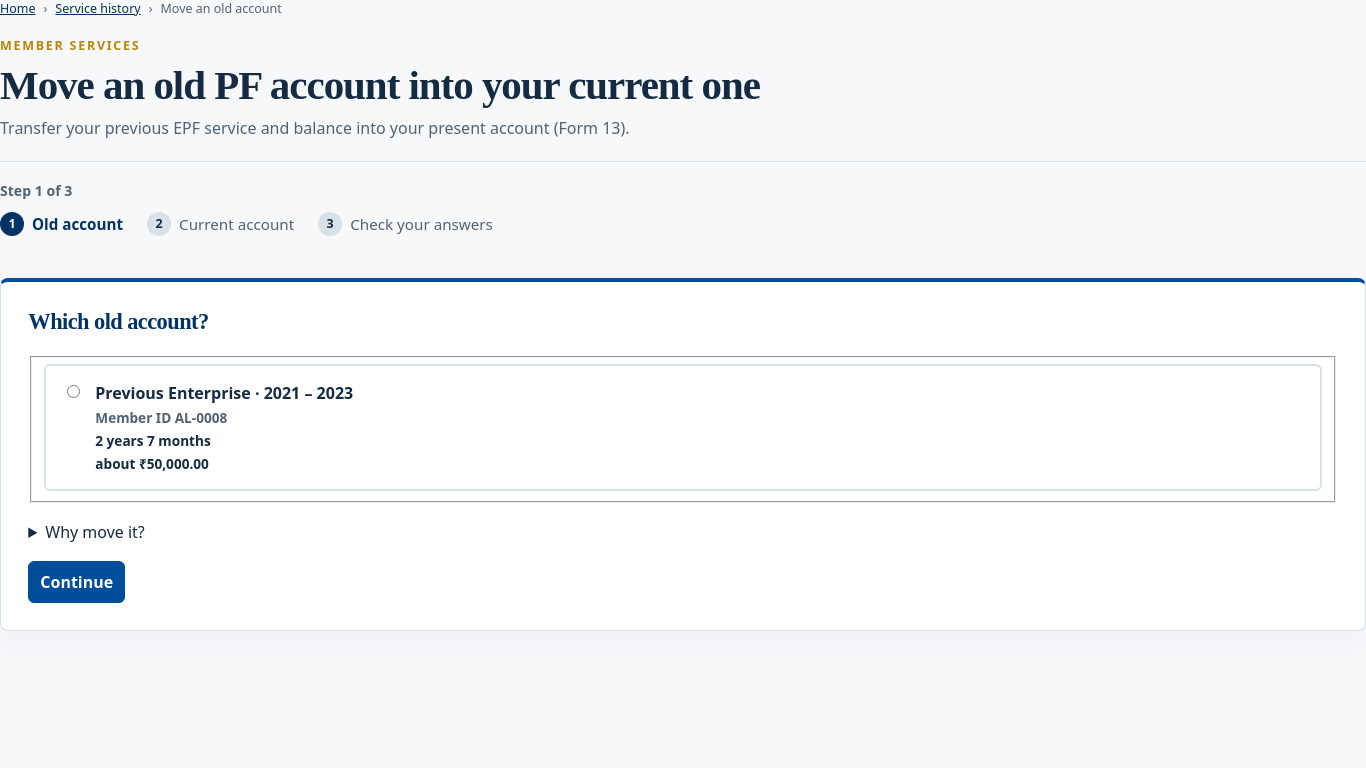
Test: P2.28c TransferJourneyPage › submits transfer, steps up with challenge, and displays ConfirmationPanel with case reference and three steps
Click the radio button labelled "Previous Enterprise" at (74, 392), box [67, 385, 80, 398]
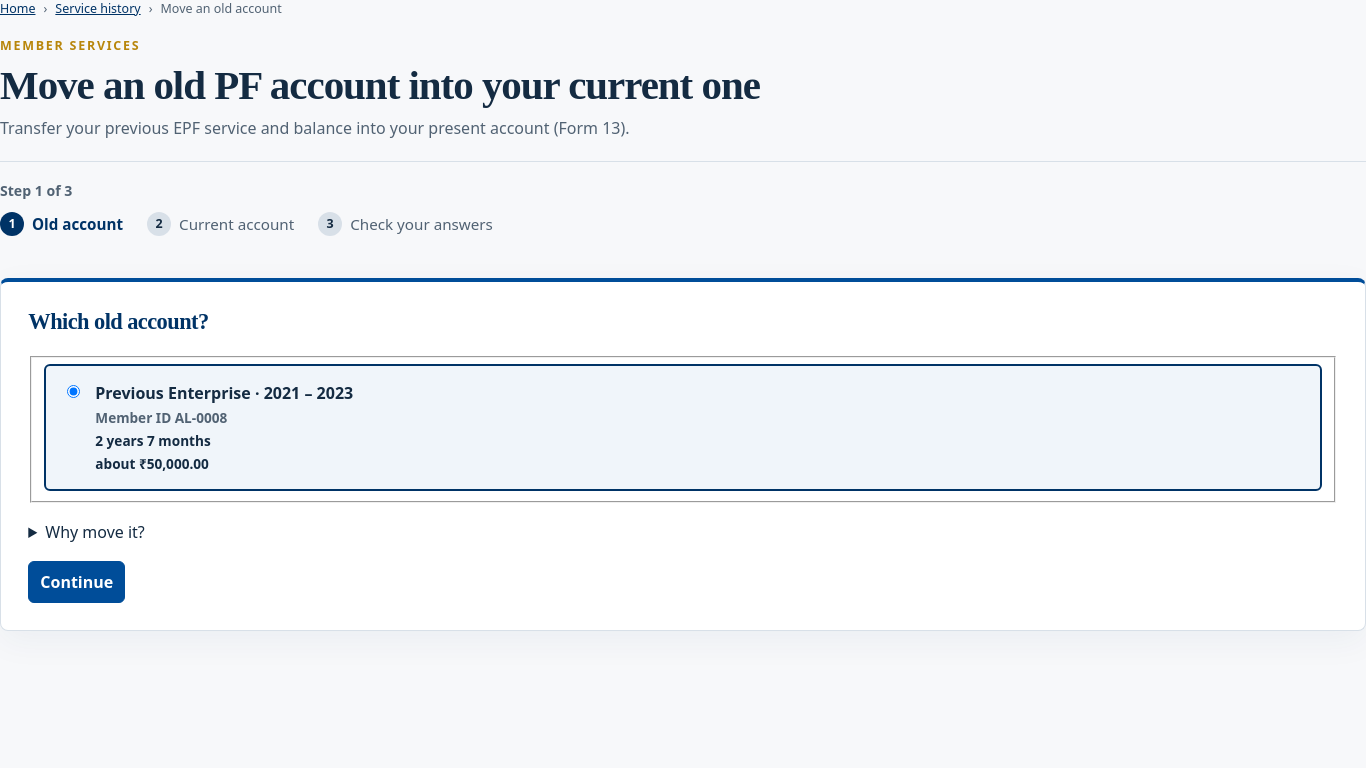
Click the button "Continue" at (77, 582), box [28, 561, 125, 603]
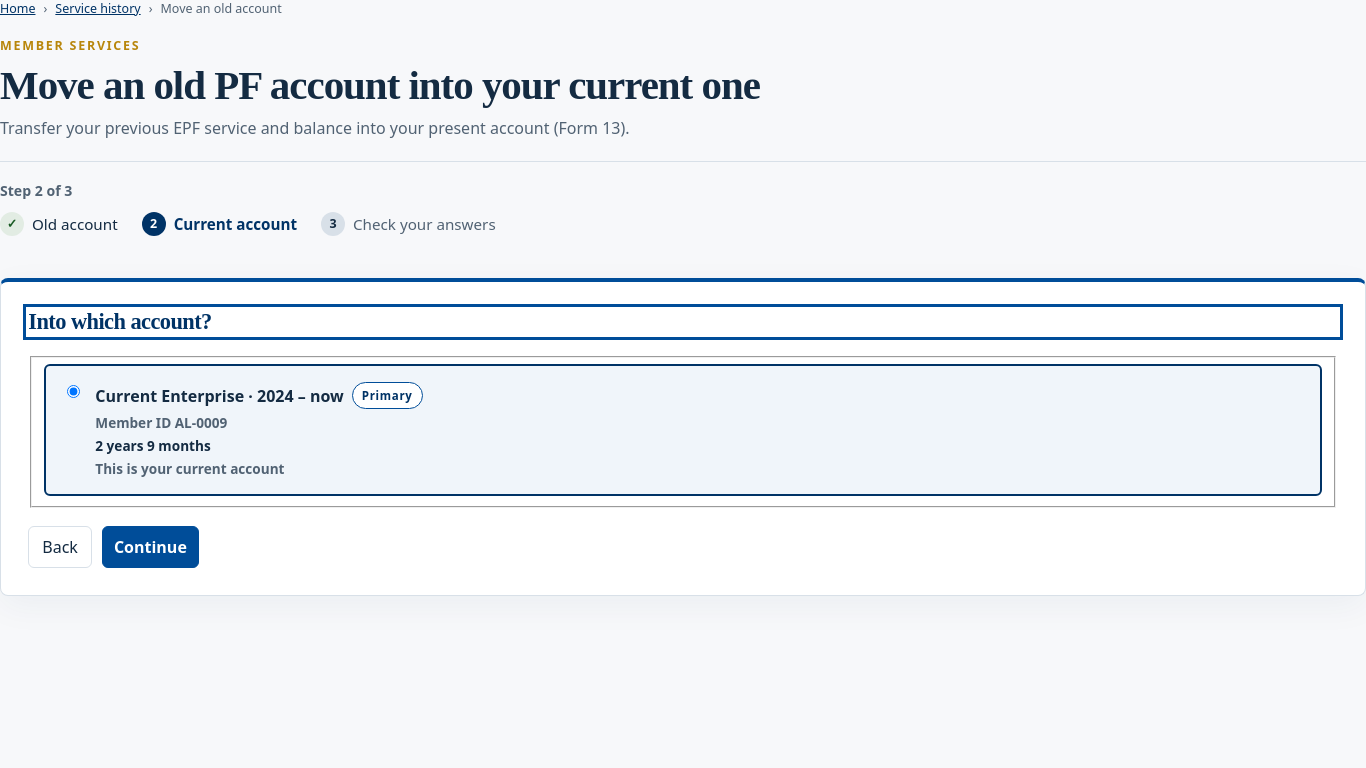
Click the button "Continue" at (150, 547), box [102, 526, 199, 568]
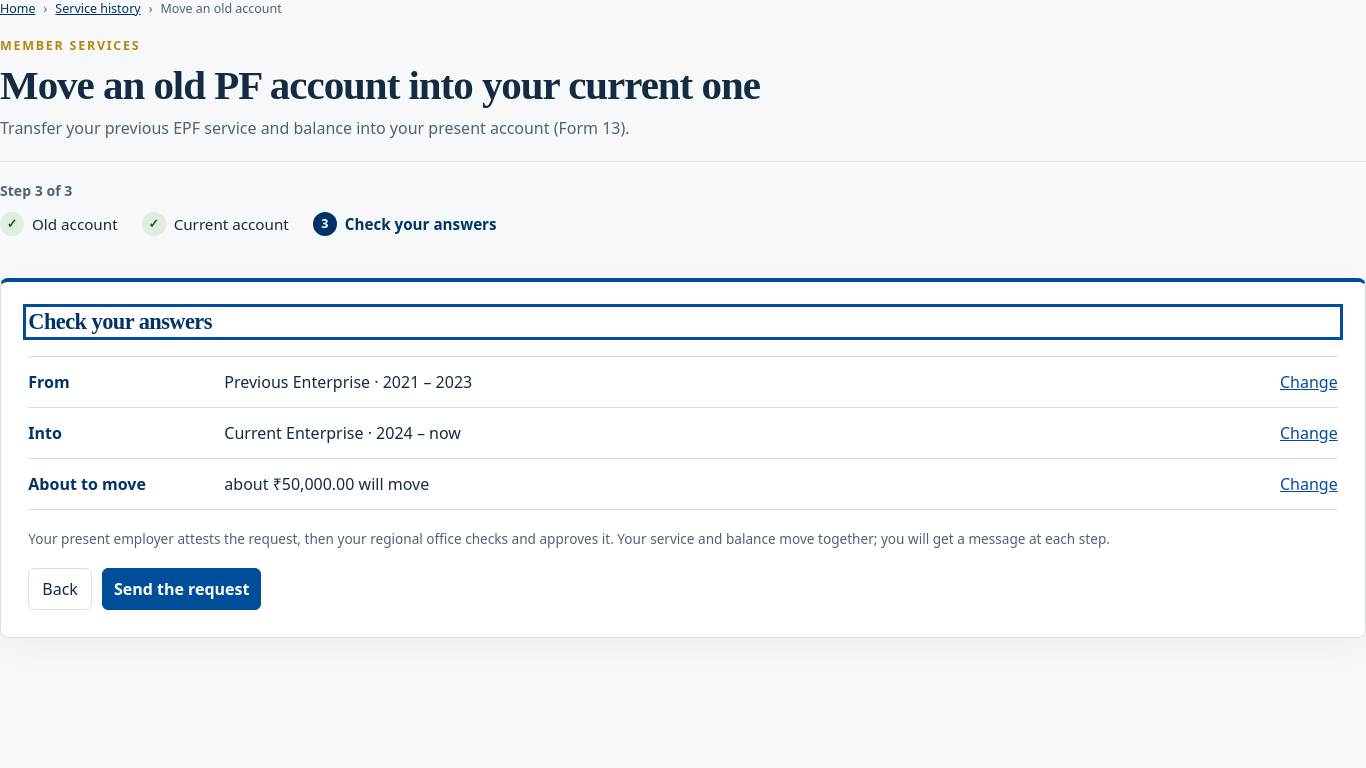
Expected: the heading "Check your answers" is shown, [28, 309, 212, 334]
Click the button "Send the request" at (182, 588), box [102, 568, 261, 610]
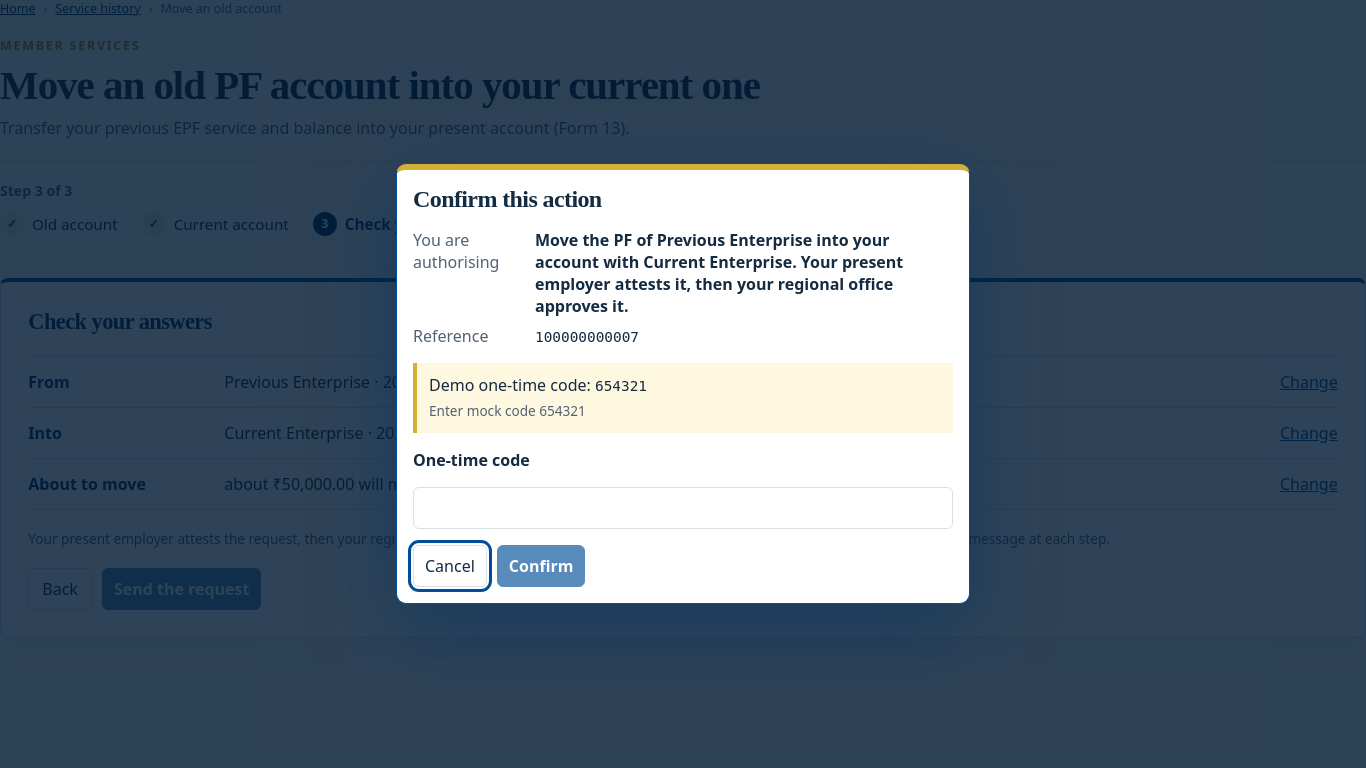
Expected: the text "Enter mock code 654321" is shown, [429, 401, 586, 420]
Expected: the text "Move the PF of Previous Enterprise into your account with Current Enterprise. Your present employer attests it, then you" is shown, [535, 229, 903, 317]
// Confirm step-up code
Type "654321" into the field labelled "One-time code" at (683, 508), box [413, 487, 953, 529]
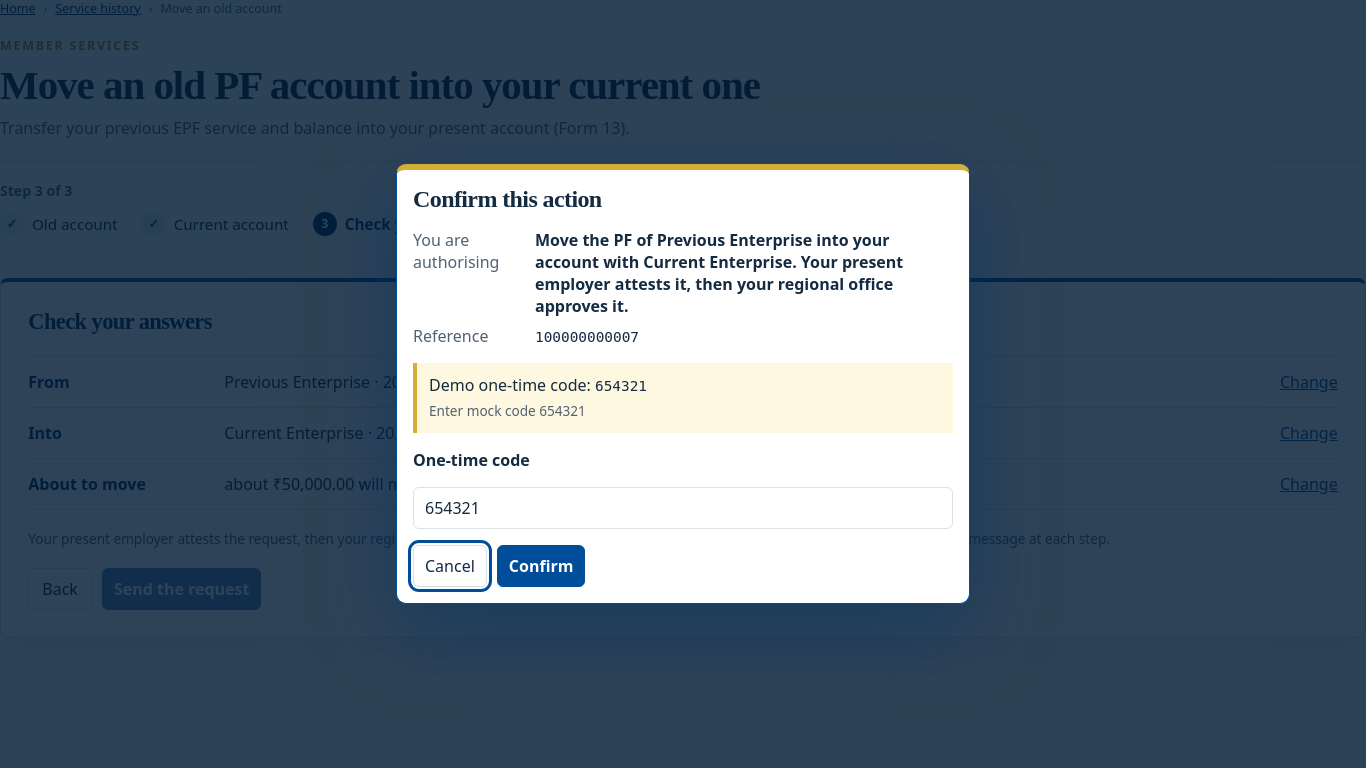
Click the button "Confirm" at (541, 566), box [497, 545, 586, 587]
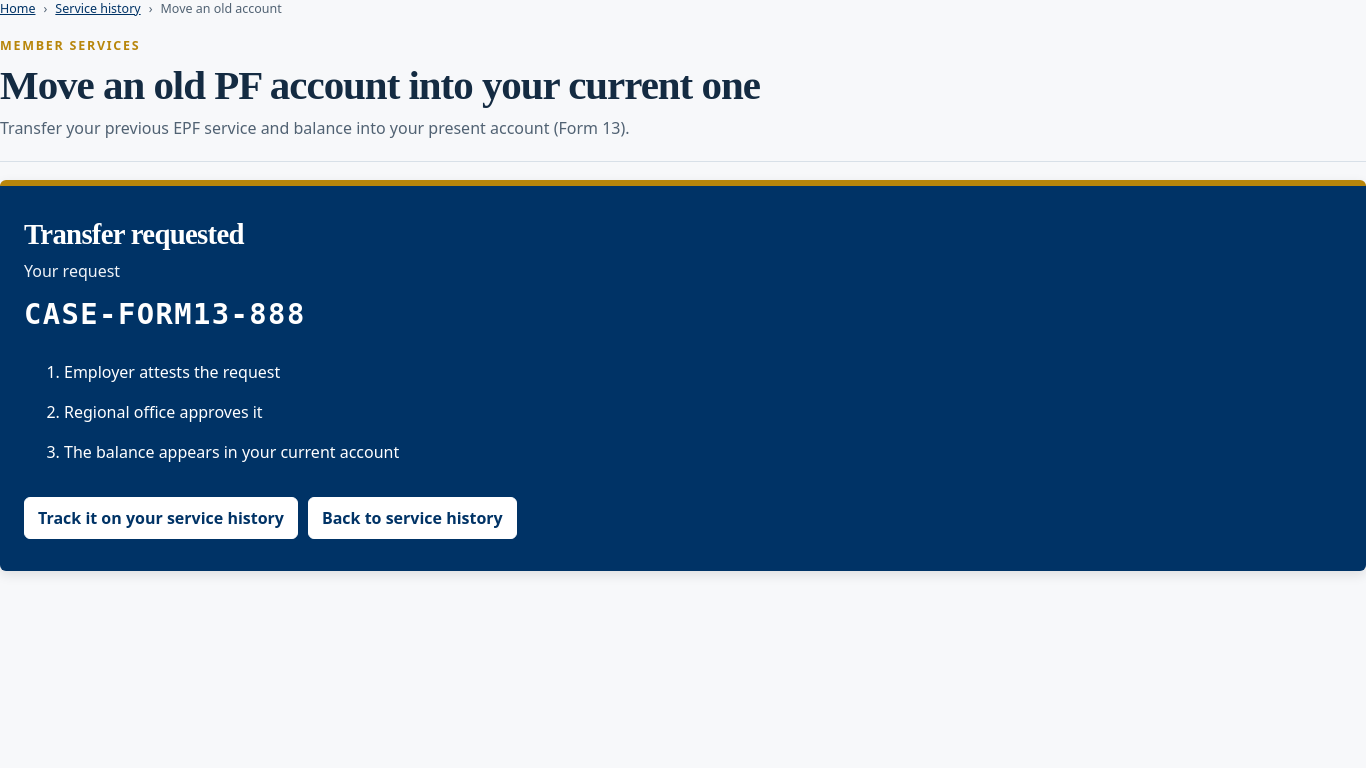
Expected: the message is shown, [0, 180, 1365, 570]
Expected: the heading "Transfer requested" is shown, [24, 218, 244, 250]
Expected: the text "Your request" is shown, [24, 260, 120, 282]
